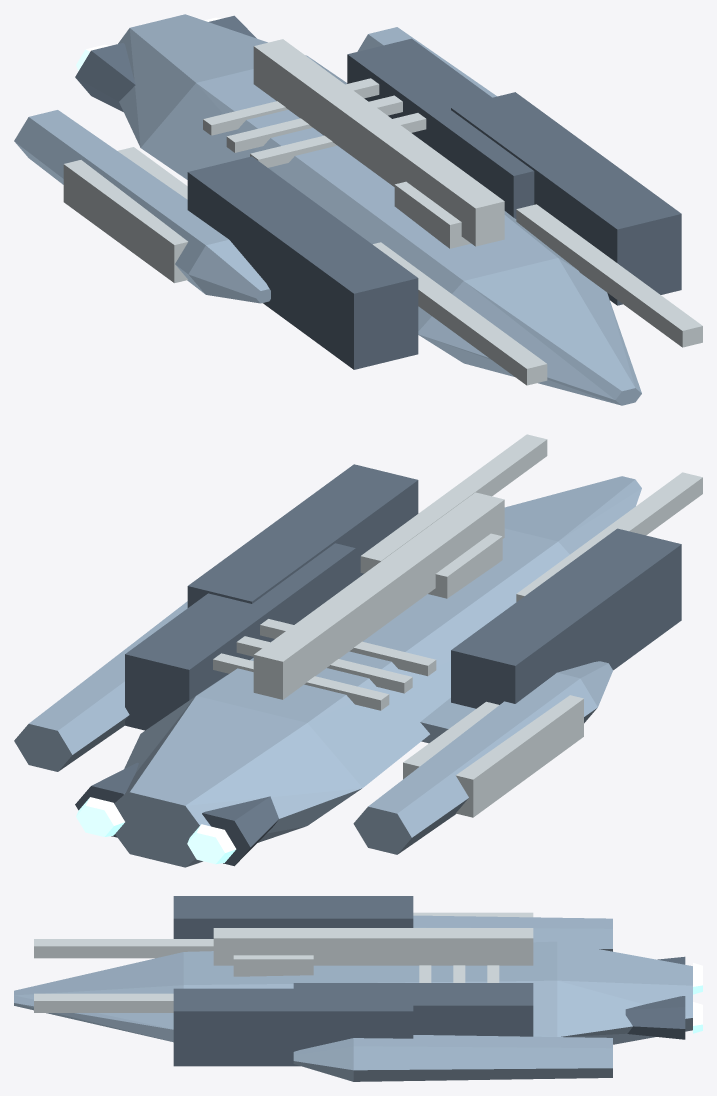
3 renders of one model, top to bottom at view 1: azimuth 30°, elevation 25°; view 2: azimuth 150°, elevation 25°; view 3: azimuth 270°, elevation 25°, orthographic. The views are drawn at different scales.
Size of the model in its own units: 3.28 by 1.09 by 6.62.
